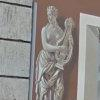Statue: (28, 5, 74, 99)
